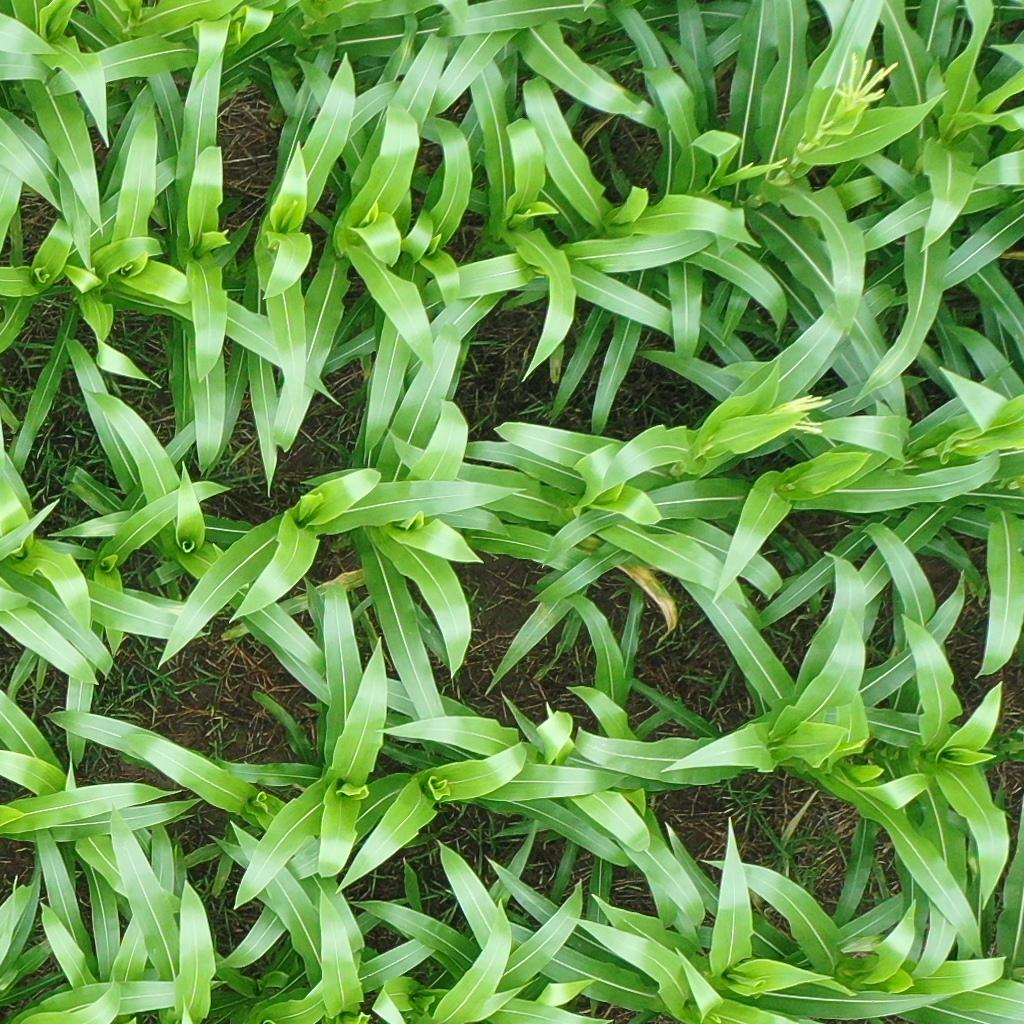Tassel: (836, 48, 899, 115), (760, 390, 836, 438), (733, 154, 791, 173)
